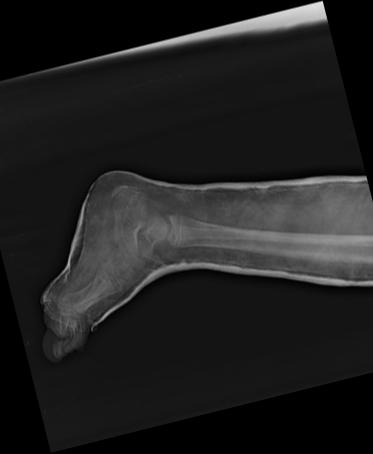fractured: (161, 212, 181, 230)
